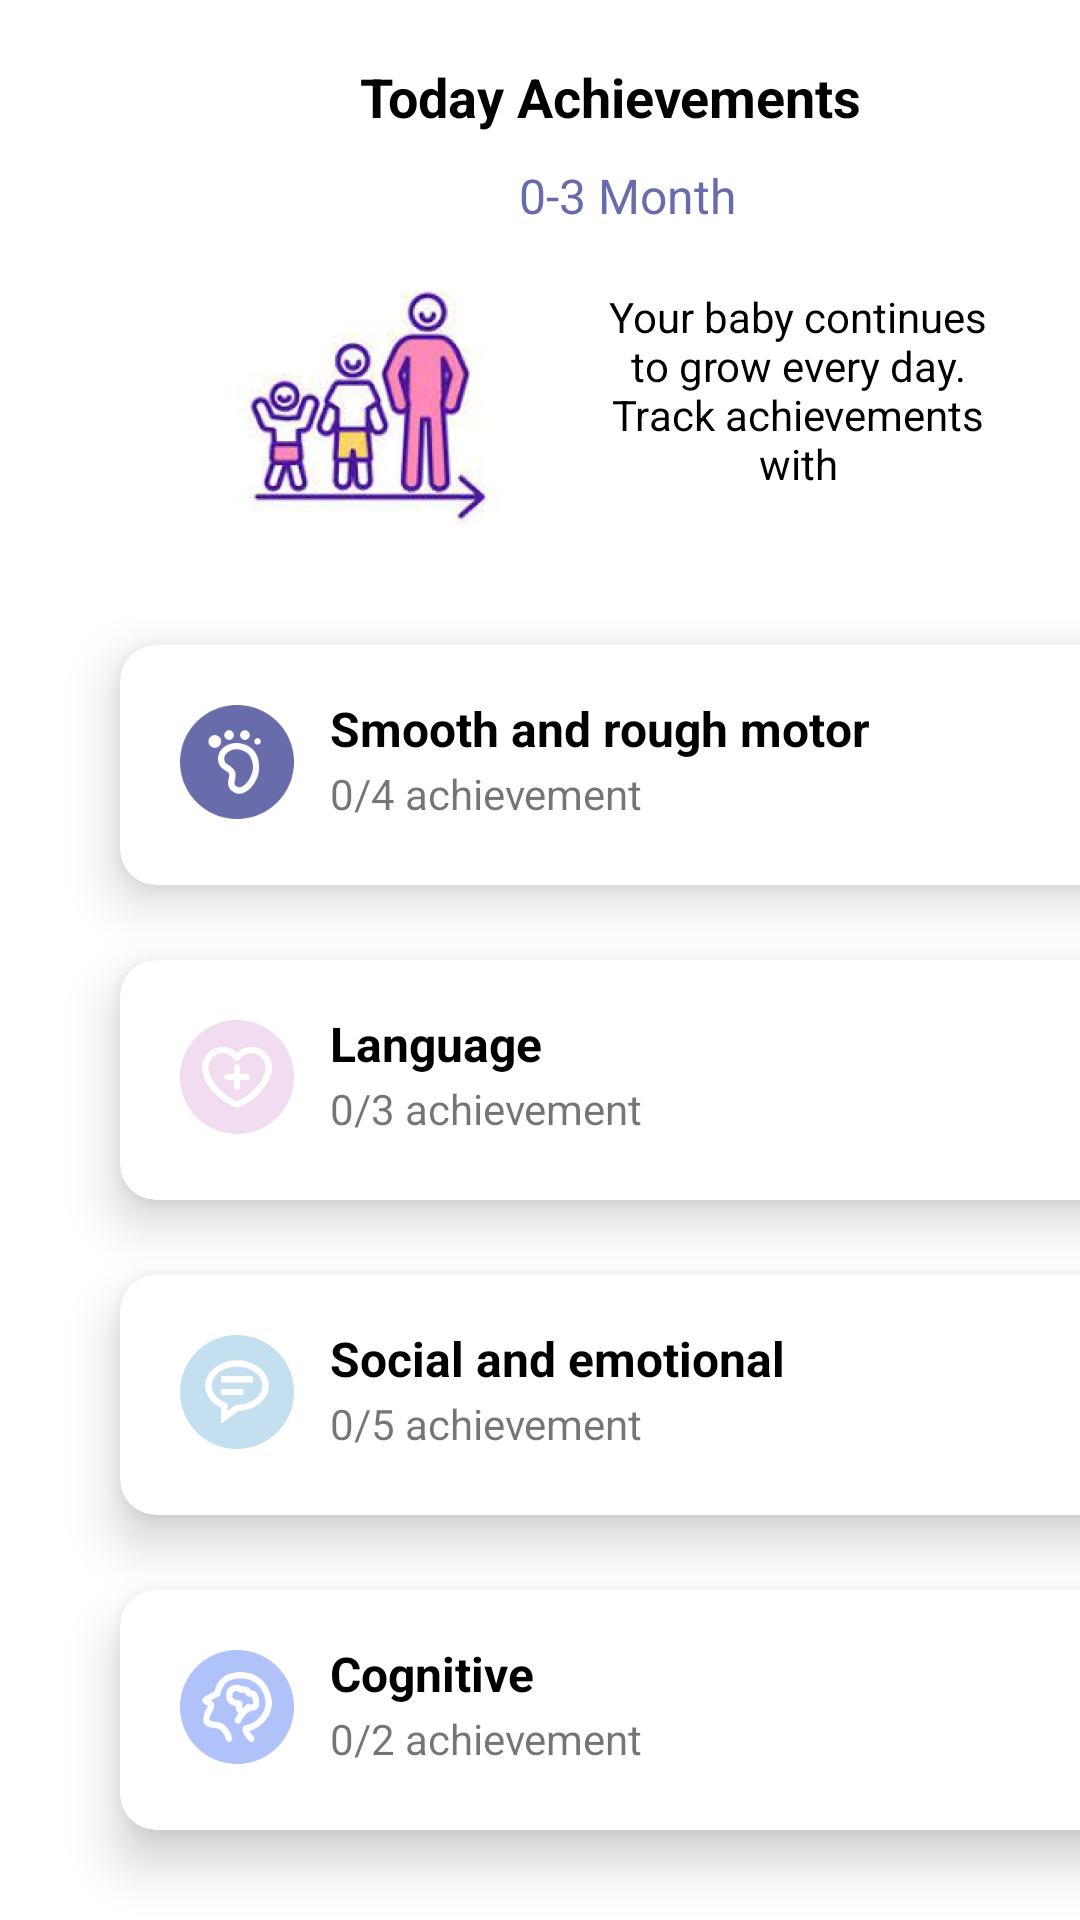

Named icons in this screenshot (1080*1920) and their bounding boxes, (x1, y1, x2, y2):
ilustrasistimulasi: (245, 291, 486, 525)
